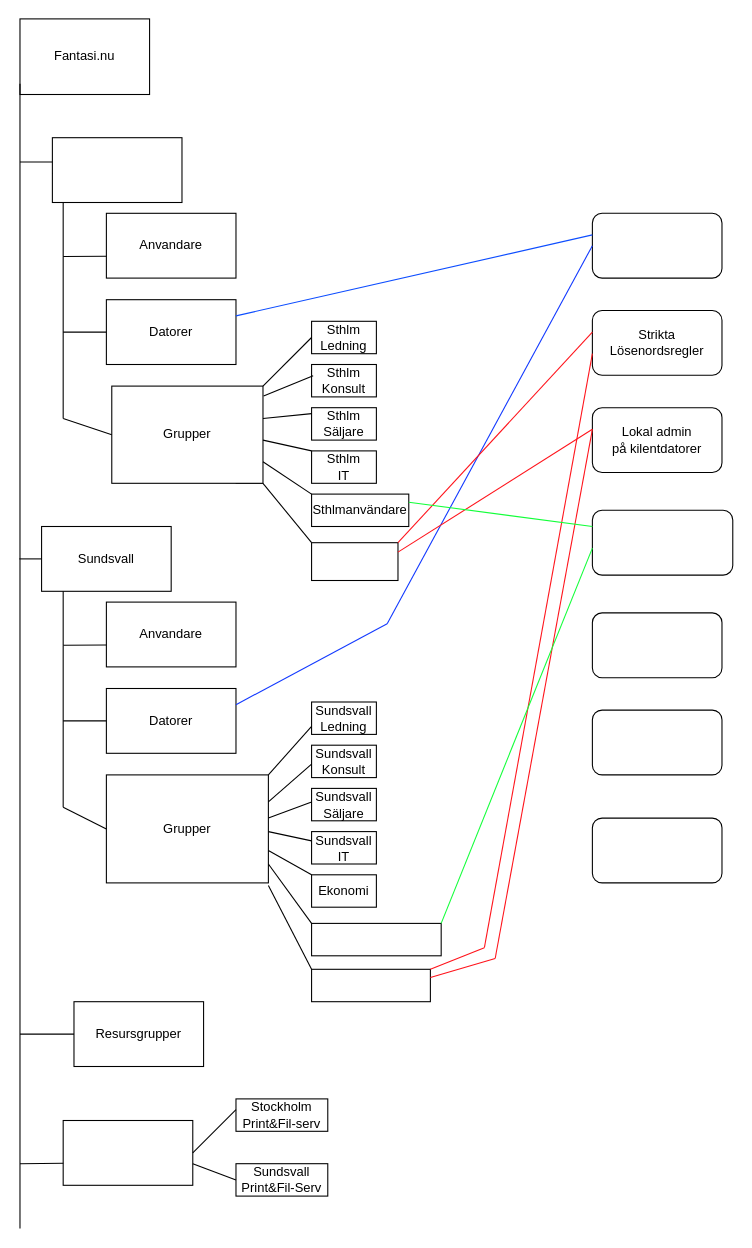
The diagram is 752 pixels wide and 1248 high, and some of its shapes have lost their labels. Here are the shapes that lost their labels. From the top down, the centre of each, then its label:
(116,169): Stockholm
(656,245): Security Baseline Win10 22h2
(354,561): Sthlmadmins
(662,542): Skrivbordsinställningar
(375,939): Sundsvallanvändare
(370,985): Sundsvalladmins
(127,1152): Servrar
